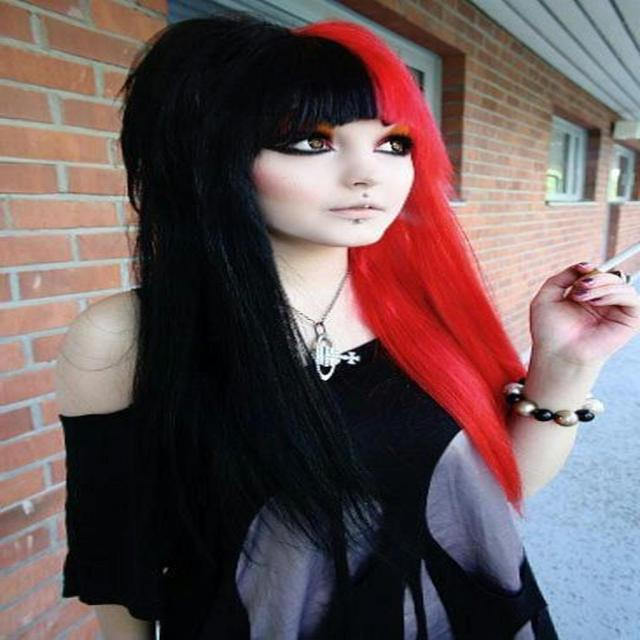smoking: (171, 29, 639, 335)
